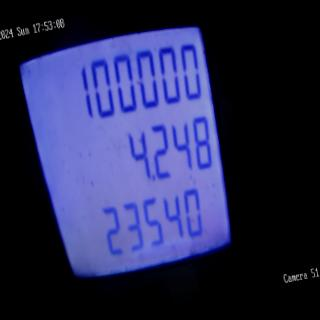screen: (8, 6, 256, 308)
